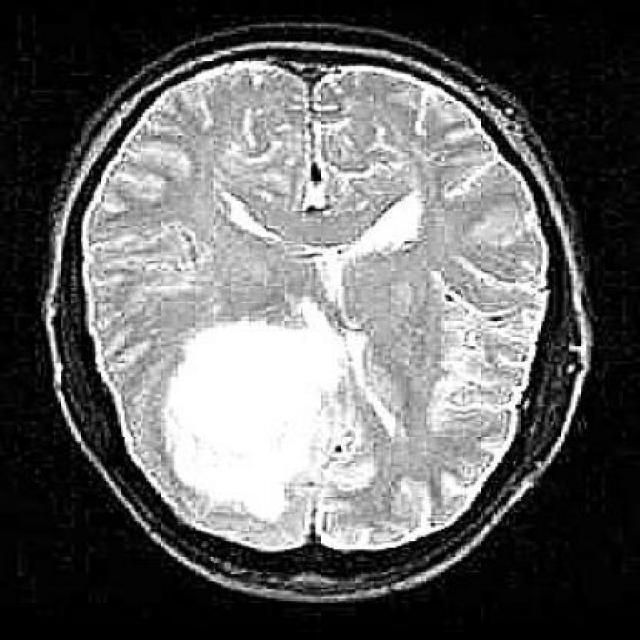Brain-Tumor: (142, 305, 360, 534)
